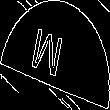M_S: (36, 25, 74, 85)
